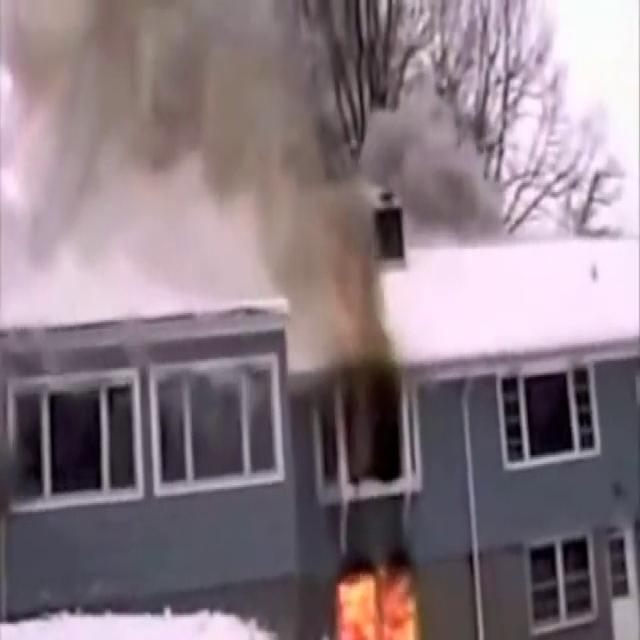Fire: (326, 552, 434, 639)
Smoke: (0, 0, 543, 308), (0, 0, 365, 308)
